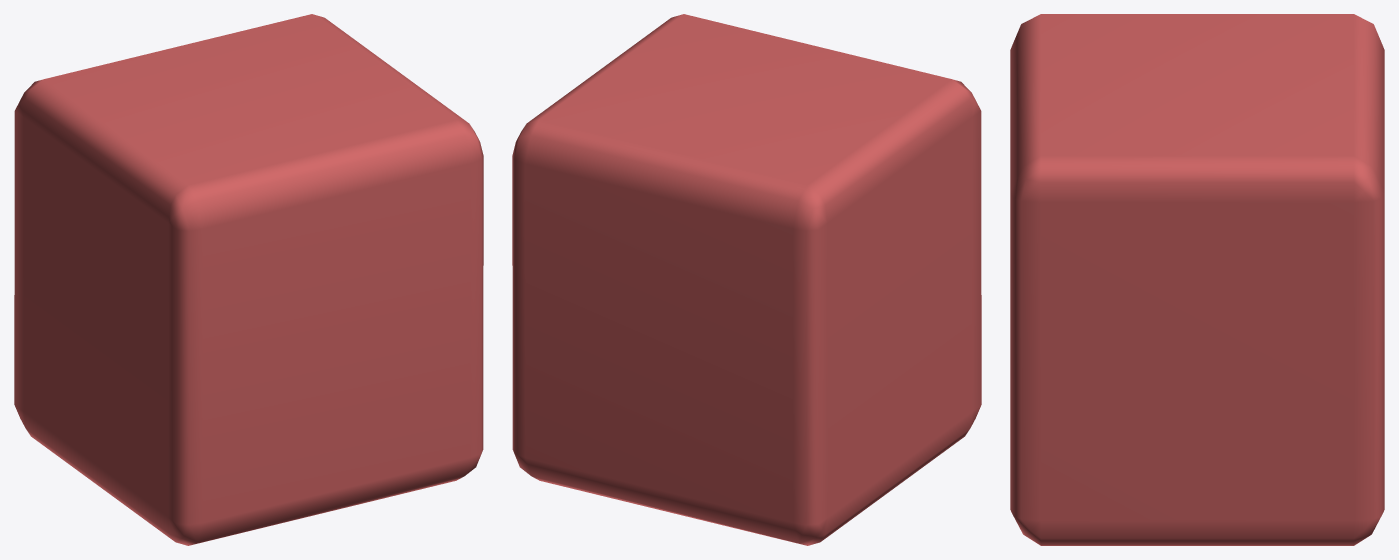
The picture shows the model from 3 angles, left to right: view 1: azimuth 30°, elevation 25°; view 2: azimuth 150°, elevation 25°; view 3: azimuth 270°, elevation 25°; orthographic projection. The views are drawn at different scales.
Visible parts, largest first — view 1: polySurface493; view 2: polySurface493; view 3: polySurface493.
Part boxes in pixels (<box>): polySurface493: <box>14,14,483,545</box>; polySurface493: <box>512,14,981,545</box>; polySurface493: <box>1010,14,1384,545</box>.
Bounding box in the file's own units: 6.6 × 7.38 × 6.41.
